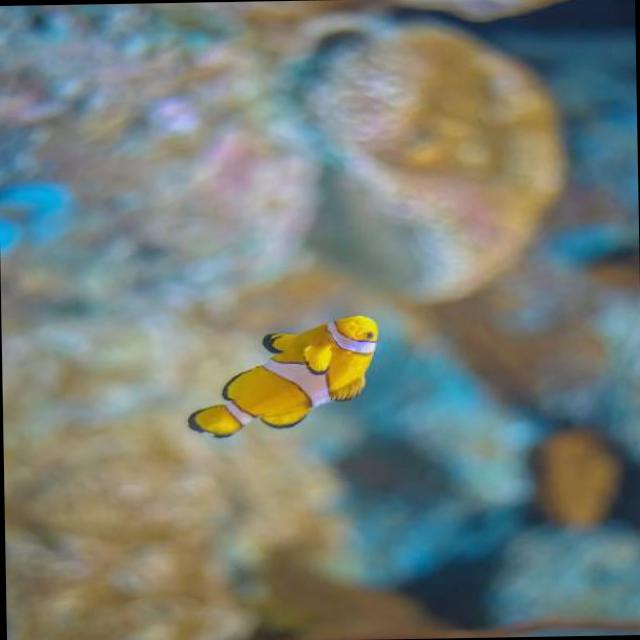ClownFish: (184, 315, 382, 440)
